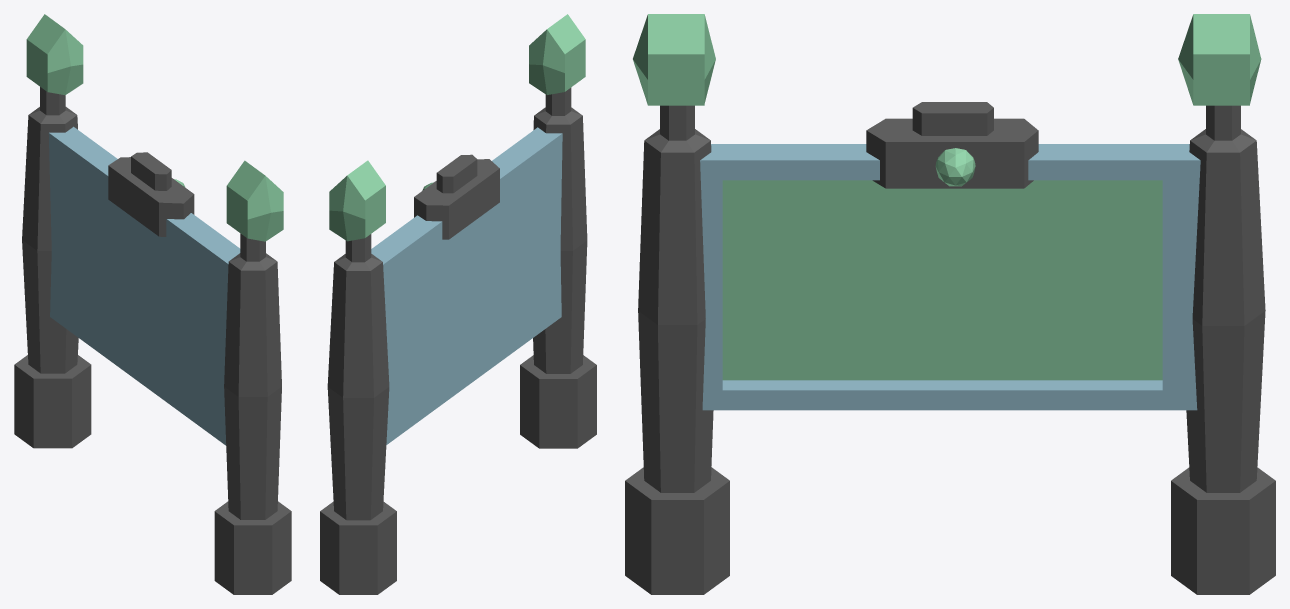
File: pub.fbx
3 views of the same model, side by side, from view 1: azimuth 30°, elevation 25°; view 2: azimuth 150°, elevation 25°; view 3: azimuth 270°, elevation 25° (orthographic). The views are drawn at different scales.
Visible parts, largest first — view 1: Cube, Cylinder, Cylinder.001, Cube.003, Cube.001, Cube.002; view 2: Cube, Cylinder.001, Cylinder, Cube.003, Cube.001, Cube.002; view 3: Cube.004, Cube, Cylinder.001, Cylinder, Cube.003, Cube.001, Cube.002, Icosphere.
Part boxes in pixels (x1=…): Cube: x1=48, y1=126, x2=240, y2=445; Cylinder: x1=214, y1=233, x2=291, y2=594; Cylinder.001: x1=14, y1=87, x2=91, y2=448; Cube.003: x1=108, y1=152, x2=194, y2=236; Cube.001: x1=26, y1=14, x2=83, y2=95; Cube.002: x1=226, y1=160, x2=283, y2=241; Cube: x1=371, y1=127, x2=562, y2=444; Cylinder.001: x1=320, y1=234, x2=396, y2=594; Cylinder: x1=520, y1=87, x2=596, y2=448; Cube.003: x1=414, y1=154, x2=499, y2=239; Cube.001: x1=329, y1=160, x2=385, y2=241; Cube.002: x1=529, y1=14, x2=585, y2=94; Cube.004: x1=722, y1=180, x2=1162, y2=380; Cube: x1=700, y1=144, x2=1200, y2=410; Cylinder.001: x1=1171, y1=105, x2=1275, y2=594; Cylinder: x1=625, y1=105, x2=729, y2=594; Cube.003: x1=866, y1=102, x2=1038, y2=188; Cube.001: x1=1178, y1=14, x2=1261, y2=105; Cube.002: x1=633, y1=14, x2=715, y2=105; Icosphere: x1=935, y1=148, x2=975, y2=186.
Size of the model in its own units: 90.58 by 573 by 600.
